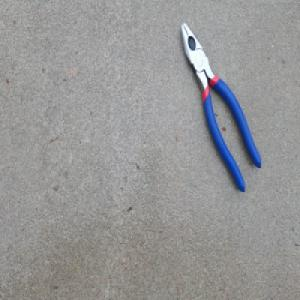Pliers: (179, 21, 262, 195)
